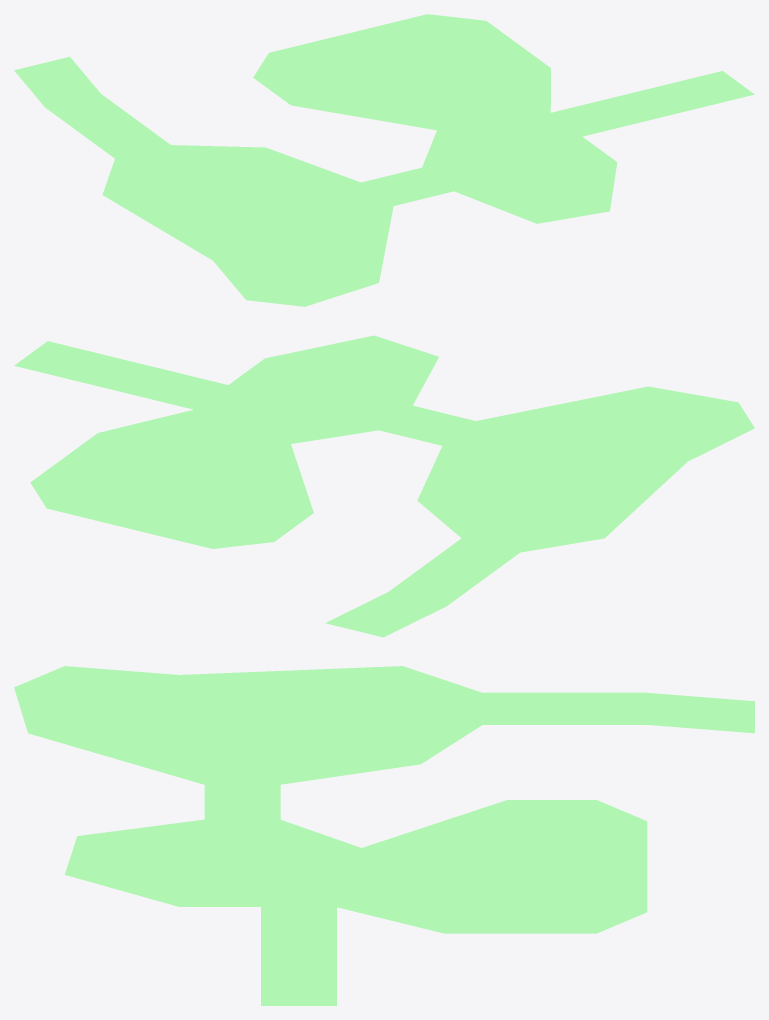
The model's file is s01b_lc1-floor.glb.
3 renders of one model, top to bottom at view 1: azimuth 30°, elevation 25°; view 2: azimuth 150°, elevation 25°; view 3: azimuth 270°, elevation 25°, orthographic. The views are drawn at different scales.
Visible parts, largest first — view 1: collision_floor-colonly; view 2: collision_floor-colonly; view 3: collision_floor-colonly.
Boxes of the visible parts, bbox=[...] form: collision_floor-colonly: bbox=[14, 14, 753, 306]; collision_floor-colonly: bbox=[14, 336, 754, 636]; collision_floor-colonly: bbox=[14, 666, 754, 1005].
Size of the model in its own units: 63.5 by 0 by 58.5.
